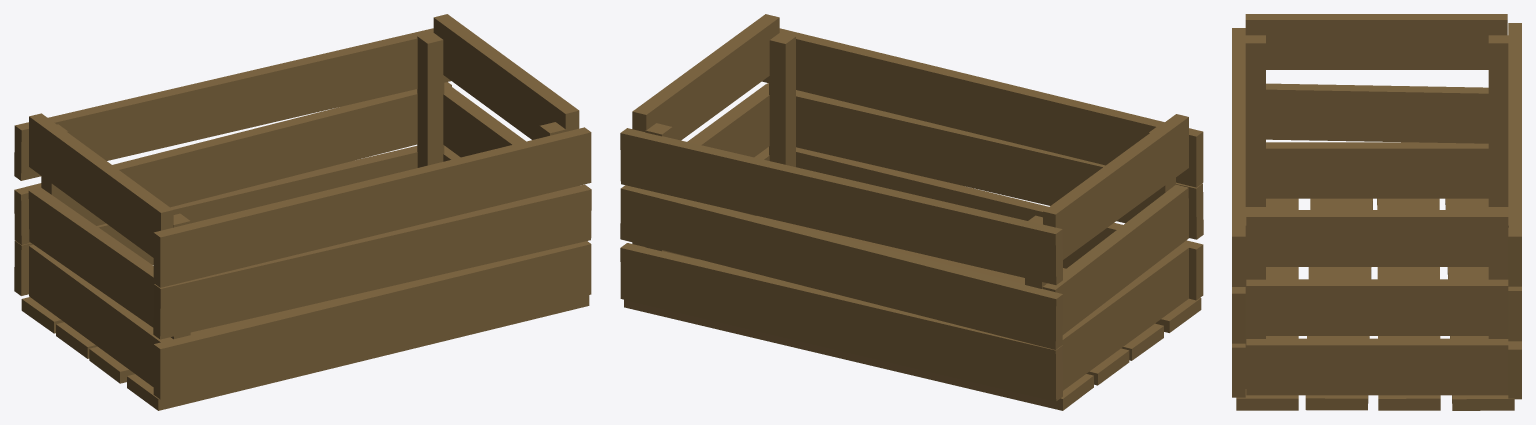
File: Caixote.fbx
The picture shows the model from 3 angles, left to right: view 1: azimuth 30°, elevation 25°; view 2: azimuth 150°, elevation 25°; view 3: azimuth 270°, elevation 25°; orthographic projection.
Parts seen in each view (by area): view 1: Caixote.001; view 2: Caixote.001; view 3: Caixote.001.
Part boxes in pixels (x1,y1,x2,y2): Caixote.001: (14,14,591,410); Caixote.001: (620,14,1203,410); Caixote.001: (1232,14,1521,410).
Size of the model in its own units: 95.42 by 40.6 by 55.72.
